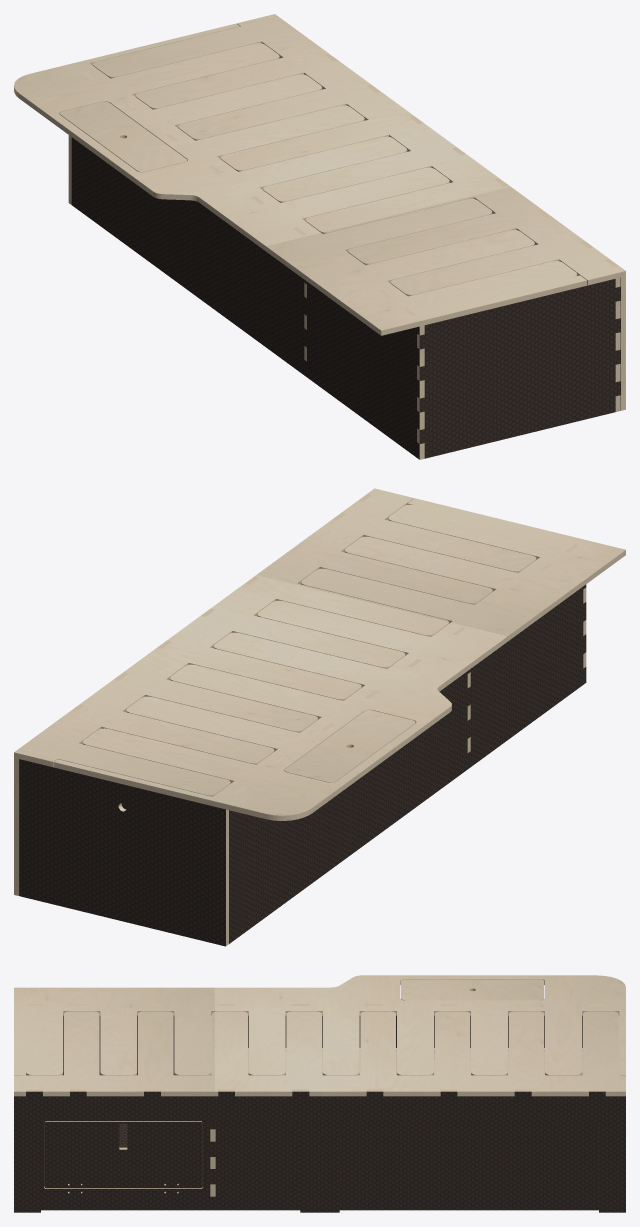
File: lounge-slide-bed-hexa.glb
3 renders of one model, top to bottom at view 1: azimuth 30°, elevation 25°; view 2: azimuth 150°, elevation 25°; view 3: azimuth 270°, elevation 25°, orthographic. The views are drawn at different scales.
Visible parts, largest first — view 1: Fixed comb top - rounded fingers R20_1, Sliding comb top - rounded fingers_1, Wall side with top tongues_1, Front end - finger joints 15mm_1, Fixed comb top - rounded fingers R20_0, Lift-out hatch 1 - 2mm clearance_1, Sliding comb top - rounded fingers_0, Sliding outer frame - three feet_0, Wall side with top tongues_0; view 2: Fixed comb top - rounded fingers R20_1, Sliding comb top - rounded fingers_1, Wall side with top tongues_1, Rear drawer fascia with finger pull_1, Fixed comb top - rounded fingers R20_0, Lift-out hatch 1 - 2mm clearance_1, Sliding comb top - rounded fingers_0, Sliding outer frame - three feet_0; view 3: Aisle side with access opening_1, Fixed comb top - rounded fingers R20_1, Sliding comb top - rounded fingers_1, Sliding outer frame - three feet_1, Side door 466x217x15 - finger pull and hinge holes_1, Lift-out hatch 1 - 2mm clearance_1, Sliding comb top - rounded fingers_0, Fixed comb top - rounded fingers R20_0, Wall side with top tongues_1, Sliding outer frame - three feet_0, Front storage floor_1.
Part boxes in pixels (box(x1,y1,x2,y2)): Fixed comb top - rounded fingers R20_1: box(14, 23, 586, 330); Sliding comb top - rounded fingers_1: box(93, 14, 625, 294); Wall side with top tongues_1: box(71, 137, 419, 459); Front end - finger joints 15mm_1: box(419, 279, 620, 458); Fixed comb top - rounded fingers R20_0: box(14, 26, 586, 335); Lift-out hatch 1 - 2mm clearance_1: box(60, 101, 186, 171); Sliding comb top - rounded fingers_0: box(93, 23, 625, 296); Sliding outer frame - three feet_0: box(282, 22, 625, 410); Wall side with top tongues_0: box(80, 71, 424, 459); Fixed comb top - rounded fingers R20_1: box(54, 498, 625, 815); Sliding comb top - rounded fingers_1: box(14, 488, 536, 795); Wall side with top tongues_1: box(229, 584, 586, 943); Rear drawer fascia with finger pull_1: box(19, 759, 225, 946); Fixed comb top - rounded fingers R20_0: box(54, 503, 625, 820); Lift-out hatch 1 - 2mm clearance_1: box(285, 710, 415, 782); Sliding comb top - rounded fingers_0: box(14, 498, 536, 796); Sliding outer frame - three feet_0: box(14, 493, 371, 895); Aisle side with access opening_1: box(41, 1120, 598, 1210); Fixed comb top - rounded fingers R20_1: box(14, 975, 625, 1074); Sliding comb top - rounded fingers_1: box(14, 1011, 625, 1091); Sliding outer frame - three feet_1: box(14, 1091, 625, 1212); Side door 466x217x15 - finger pull and hinge holes_1: box(45, 1122, 201, 1188); Lift-out hatch 1 - 2mm clearance_1: box(401, 979, 544, 1000); Sliding comb top - rounded fingers_0: box(14, 1091, 625, 1096); Fixed comb top - rounded fingers R20_0: box(14, 979, 625, 1075); Wall side with top tongues_1: box(63, 1015, 582, 1075); Sliding outer frame - three feet_0: box(26, 1089, 605, 1091); Front storage floor_1: box(44, 1122, 202, 1186).
Bounding box in the file's own units: 0.816 × 0.396 × 1.82.
Materials: 4 (3 with a texture image).
